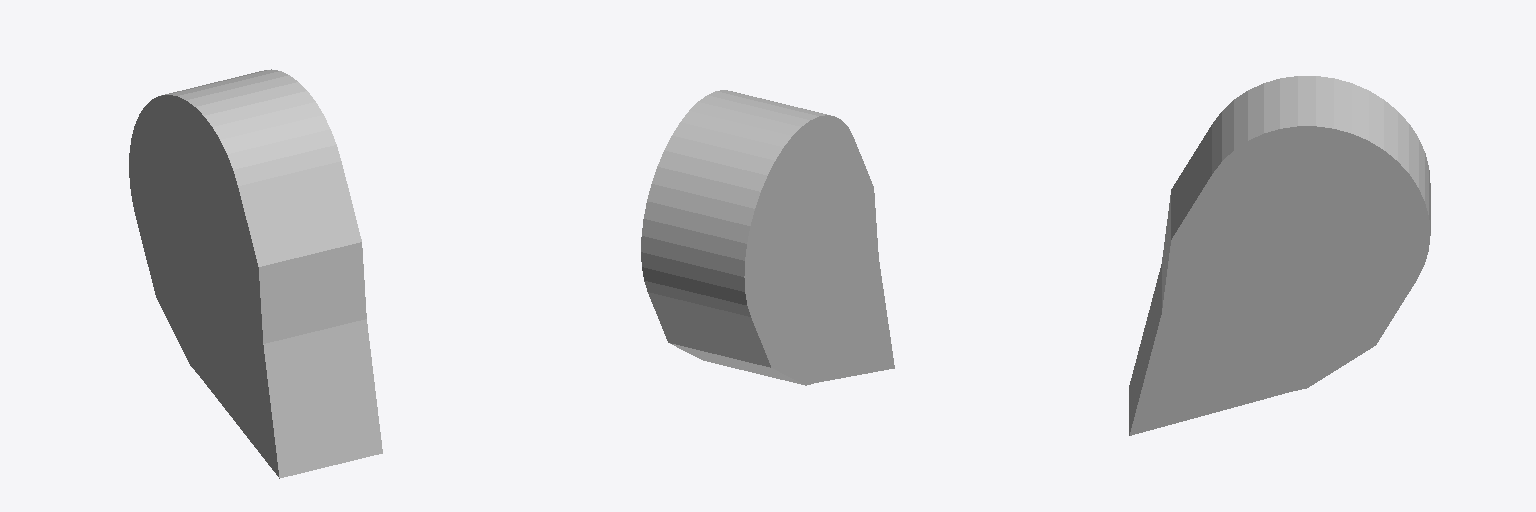
The model's file is e_right_reg1.obj.
The picture shows the model from 3 angles: view 1: azimuth 30°, elevation 25°; view 2: azimuth 150°, elevation 25°; view 3: azimuth 270°, elevation 25°; orthographic projection.
Bounding box in the file's own units: 0.5 × 1.43 × 1.26.